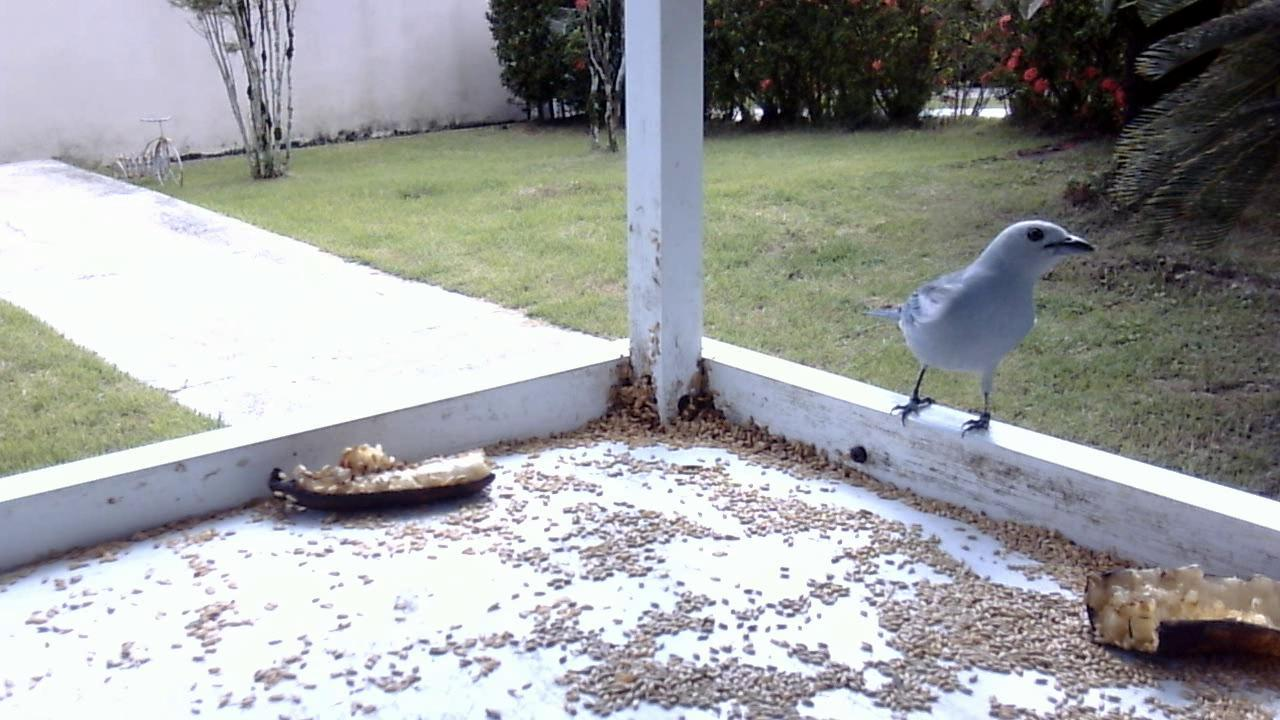sanhaco_da_amazonia: (860, 215, 1093, 447)
